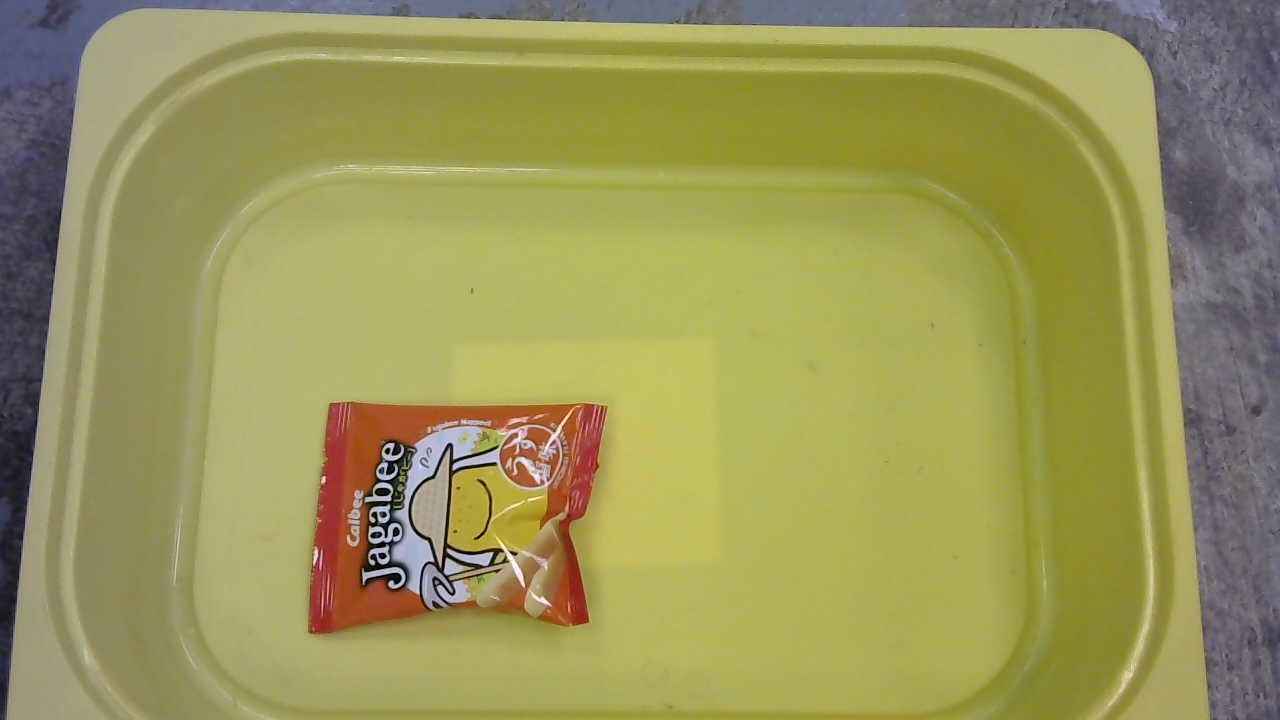JagabeeFarmer: (304, 388, 605, 638)
